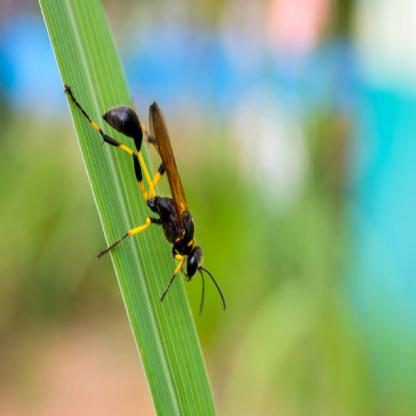sawfly: (64, 78, 228, 317)
